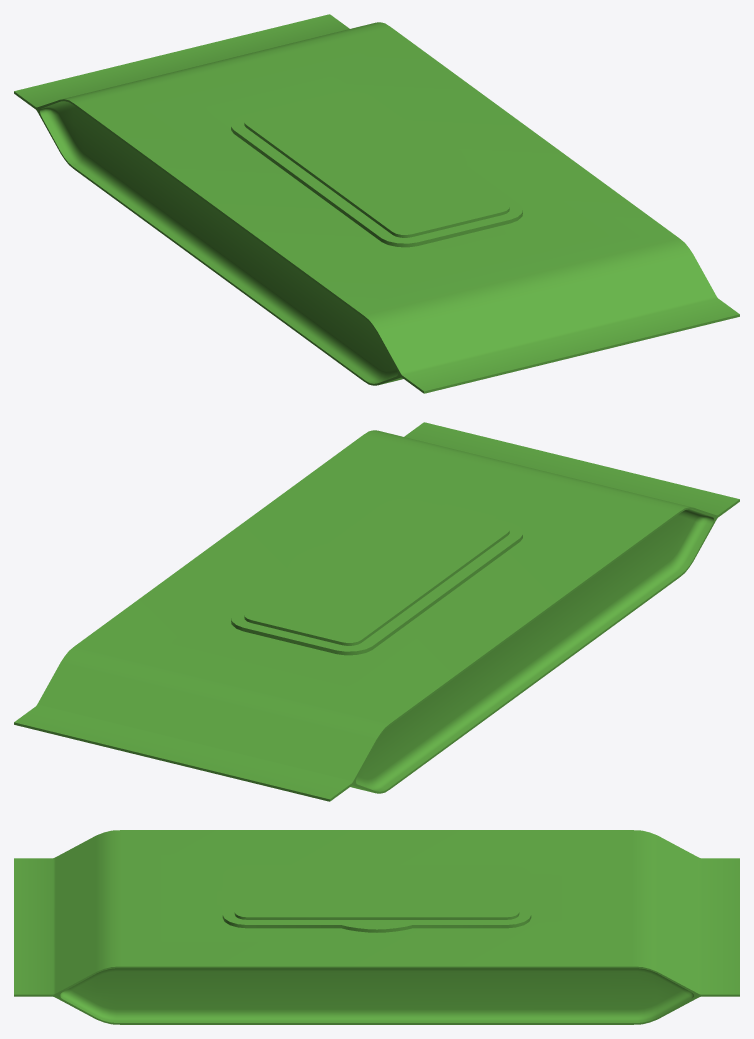
The model's file is alcohol wipe case (closed).fbx.
3 views of the same model, one above another, from view 1: azimuth 30°, elevation 25°; view 2: azimuth 150°, elevation 25°; view 3: azimuth 270°, elevation 25° (orthographic). The views are drawn at different scales.
Parts seen in each view (by area): view 1: alcohol wipe.004, Plane.008; view 2: alcohol wipe.004, Plane.008; view 3: alcohol wipe.004, Plane.008.
Part boxes in pixels (x1,y1,x2,y2): alcohol wipe.004: (14, 14, 739, 393); Plane.008: (231, 91, 522, 247); alcohol wipe.004: (14, 422, 739, 801); Plane.008: (231, 499, 522, 655); alcohol wipe.004: (14, 830, 739, 1024); Plane.008: (222, 865, 531, 932).
Bounding box in the file's own units: 0.0723 × 0.0159 × 0.1626.
